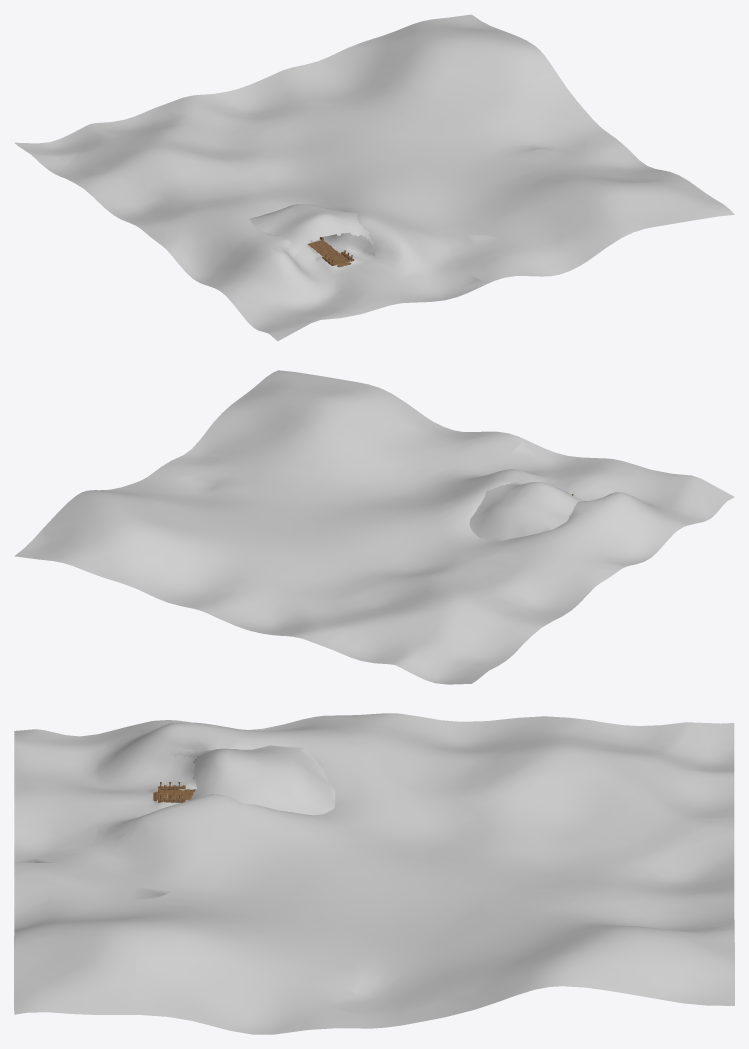
The model's file is lastexp.fbx.
3 views of the same model, one above another, from view 1: azimuth 30°, elevation 25°; view 2: azimuth 150°, elevation 25°; view 3: azimuth 270°, elevation 25° (orthographic). The views are drawn at different scales.
Visible parts, largest first — view 1: groundlowpoly; view 2: groundlowpoly; view 3: groundlowpoly.
Boxes of the visible parts, bbox=[...] form: groundlowpoly: bbox=[14, 14, 734, 341]; groundlowpoly: bbox=[14, 370, 734, 684]; groundlowpoly: bbox=[14, 713, 734, 1034].
Size of the model in its own units: 145254 by 14177 by 144728.
